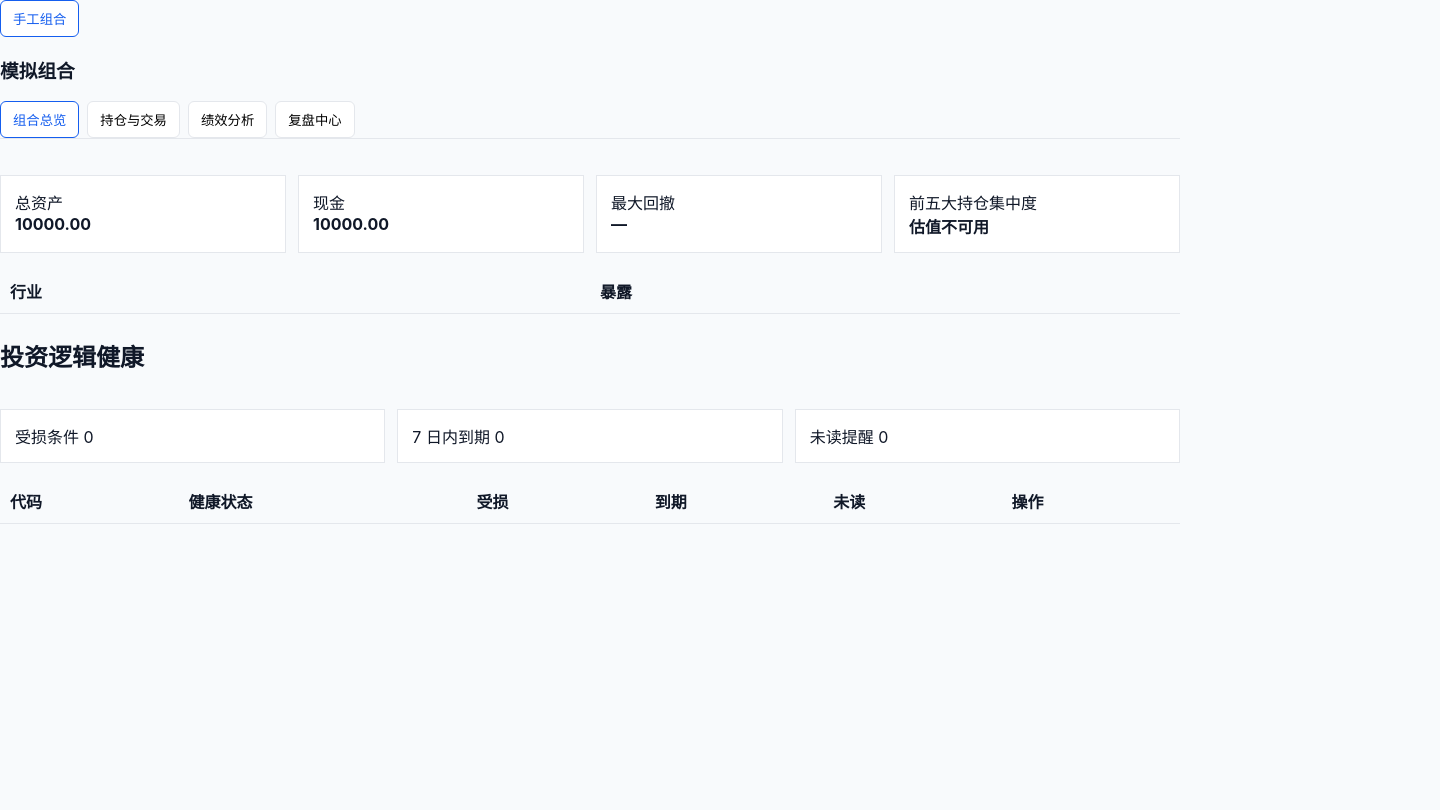
it: shows portfolio tabs and records a dividend using the amount form
Expected: the tab "组合总览" is shown, [0,101,79,138]
Click the tab "持仓与交易" at (134, 120), box [87,101,180,138]
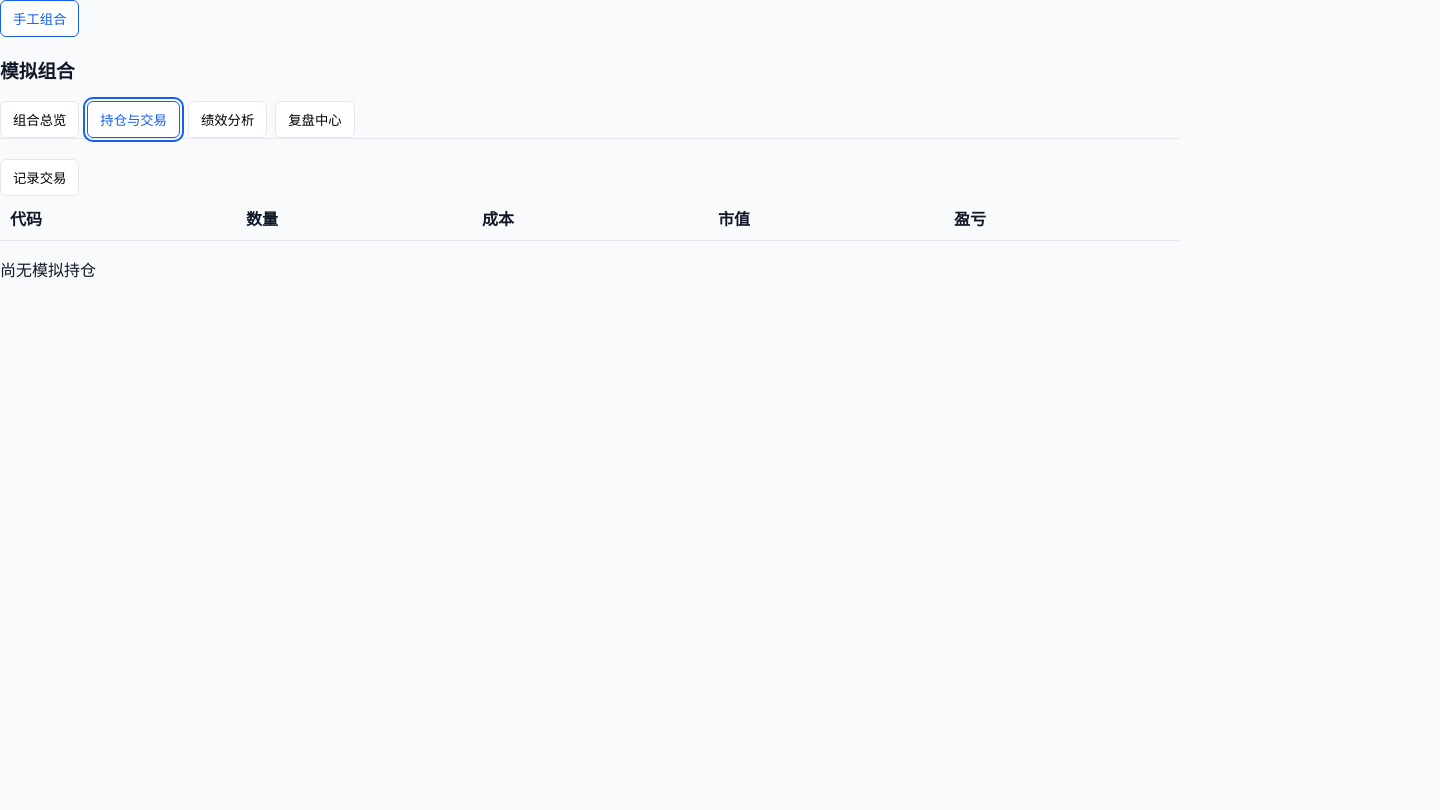
Click the button "记录交易" at (40, 178), box [0,159,79,196]
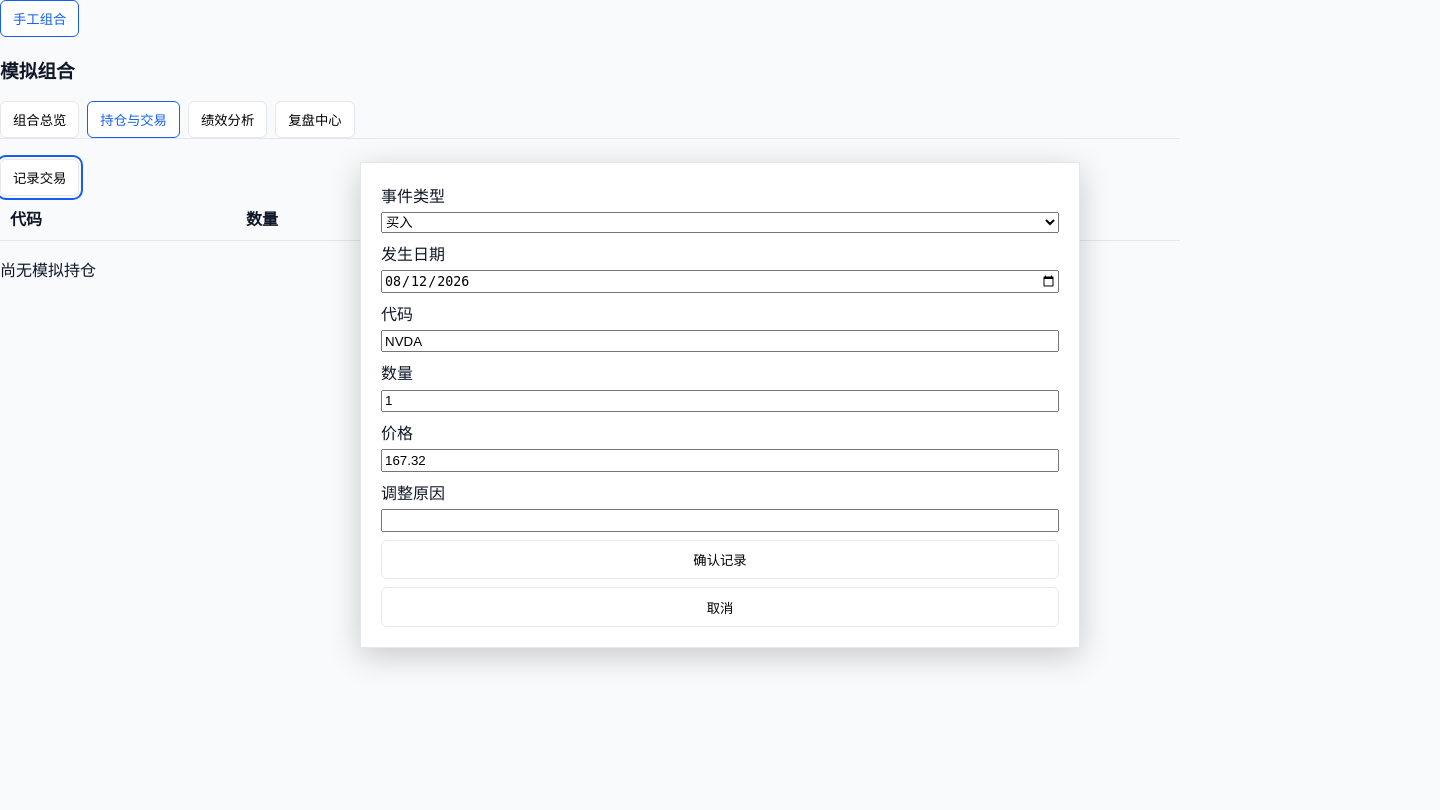
Select "分红" in the dropdown labelled "事件类型" at (720, 222), box [381,212,1059,233]
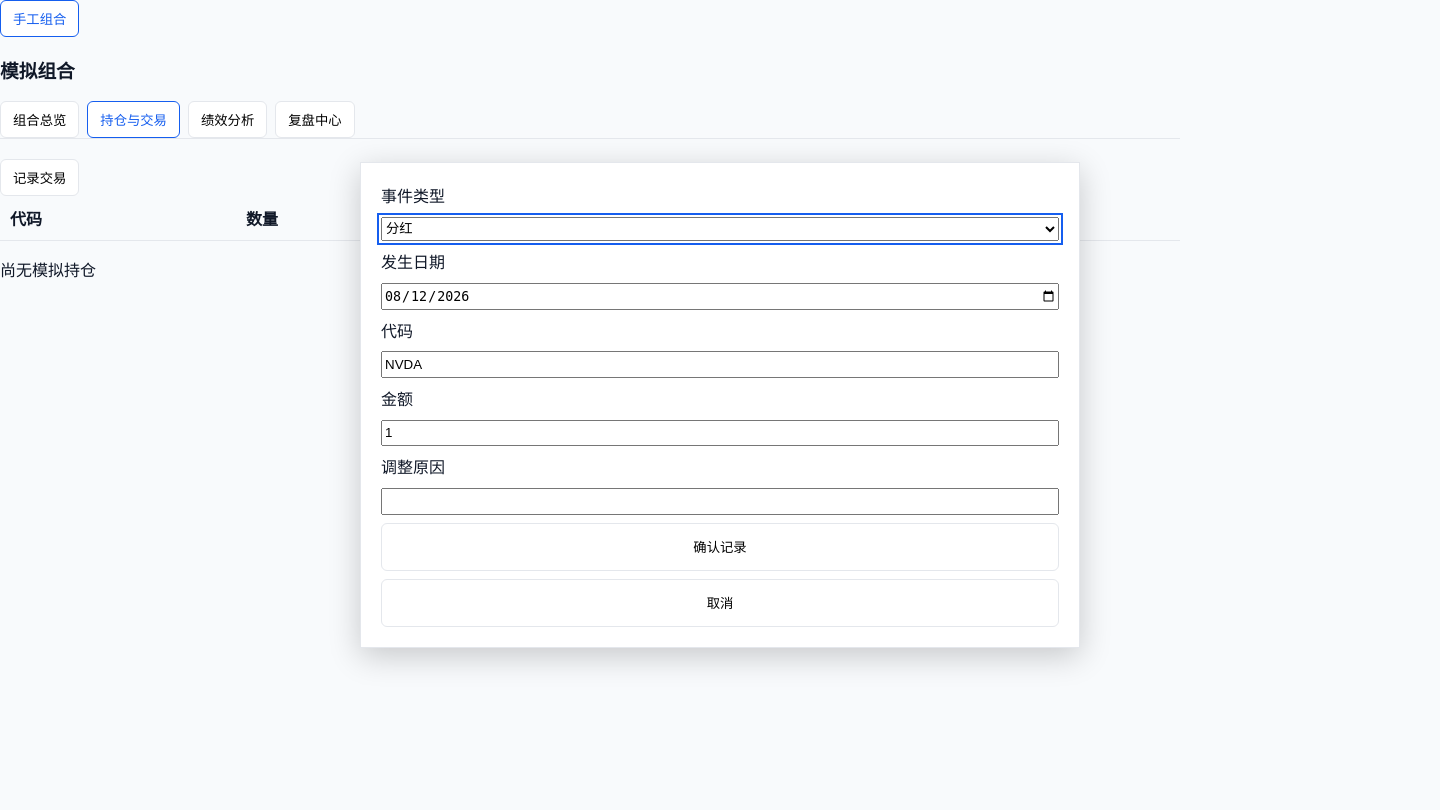
Now the field labelled "金额" is shown, box [381,420,1059,446]
